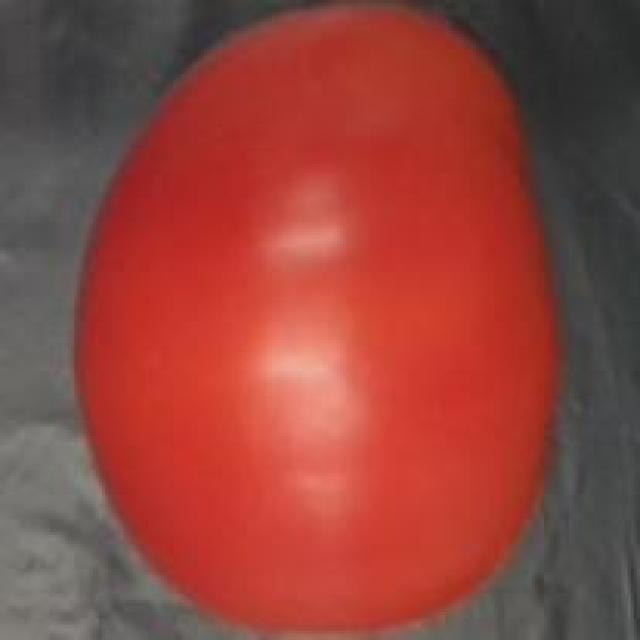ripe tomato: (68, 0, 572, 640)
